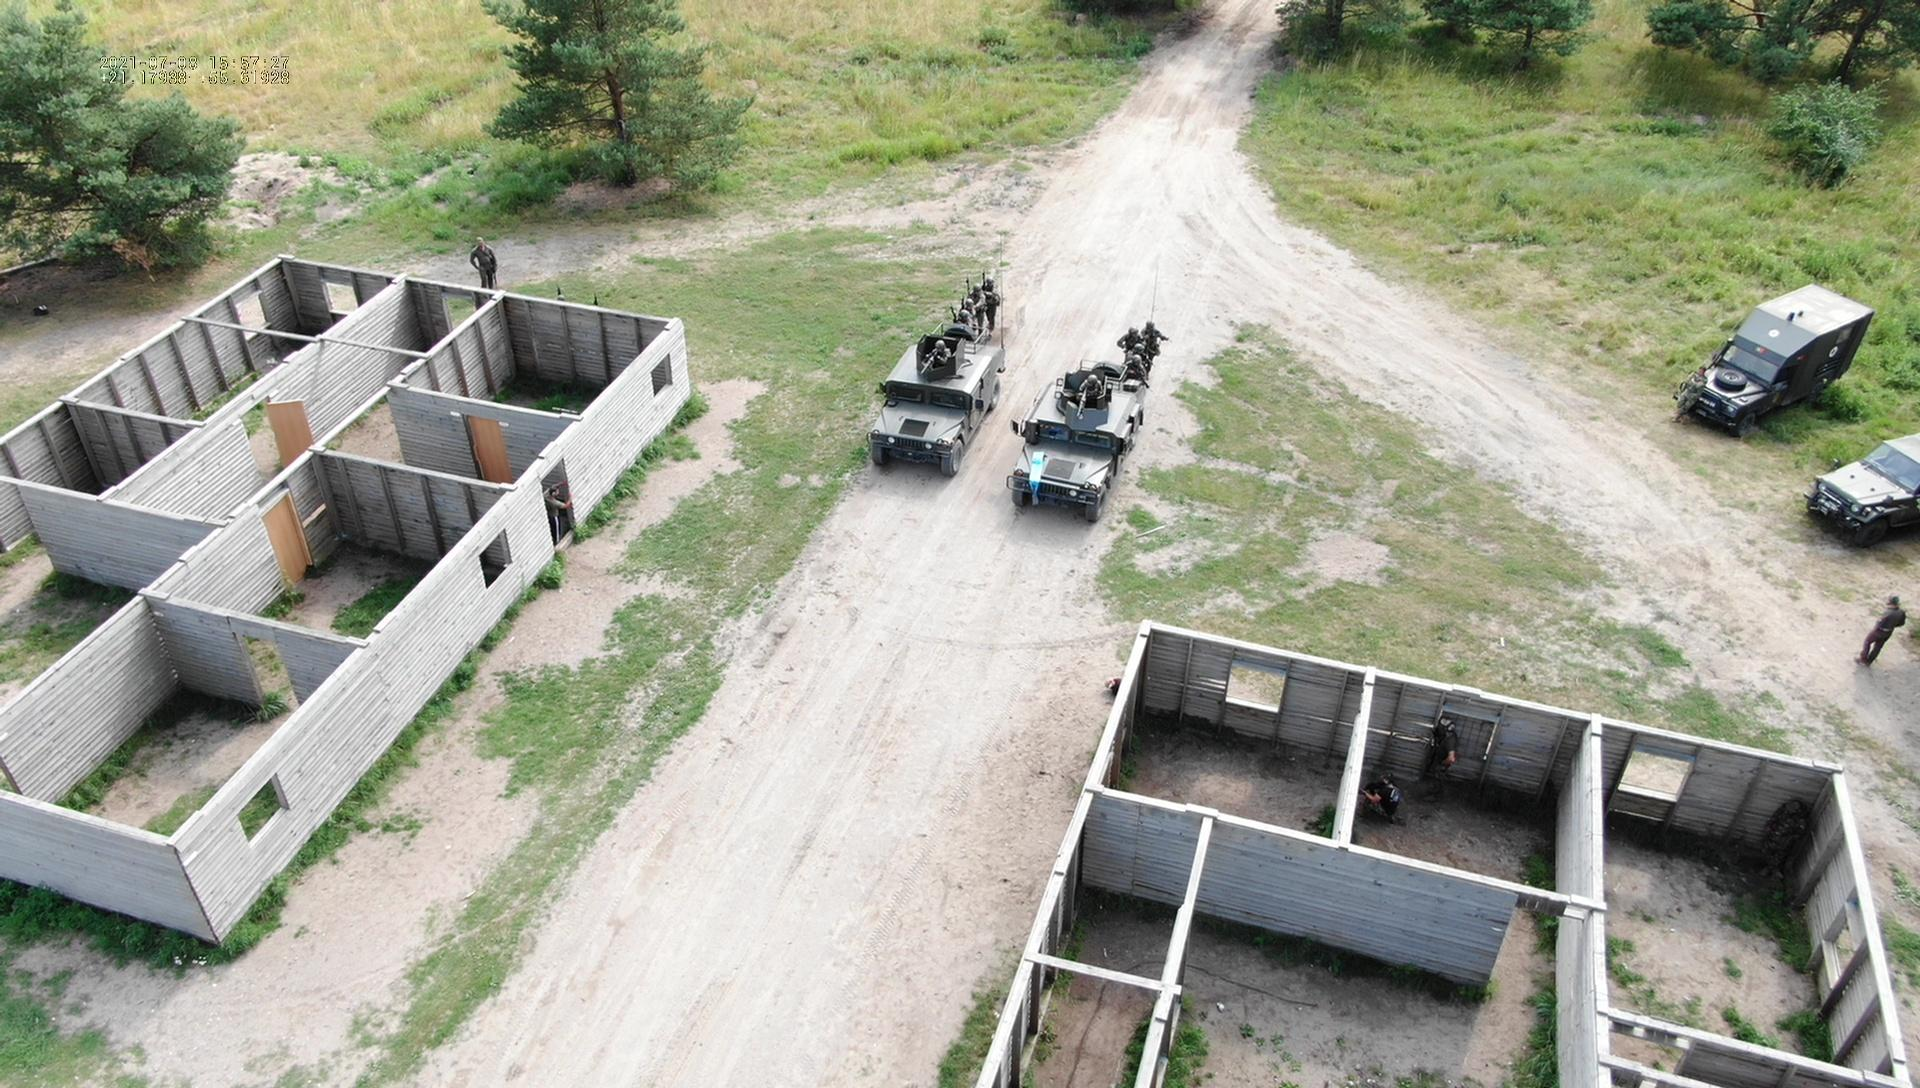Soldier: (1855, 595, 1913, 692), (1422, 721, 1465, 820), (1356, 771, 1414, 836), (1676, 357, 1720, 425), (463, 232, 506, 290), (924, 340, 963, 384), (1139, 313, 1175, 357), (1077, 375, 1114, 417), (982, 276, 1011, 324), (1118, 343, 1153, 376), (1124, 320, 1155, 353), (951, 302, 981, 336), (967, 276, 994, 305), (955, 287, 985, 314)
